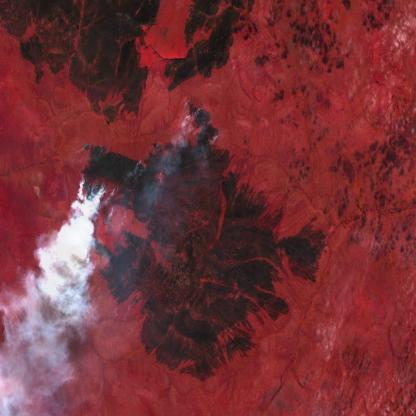fire: (73, 137, 148, 316), (182, 95, 223, 148)
